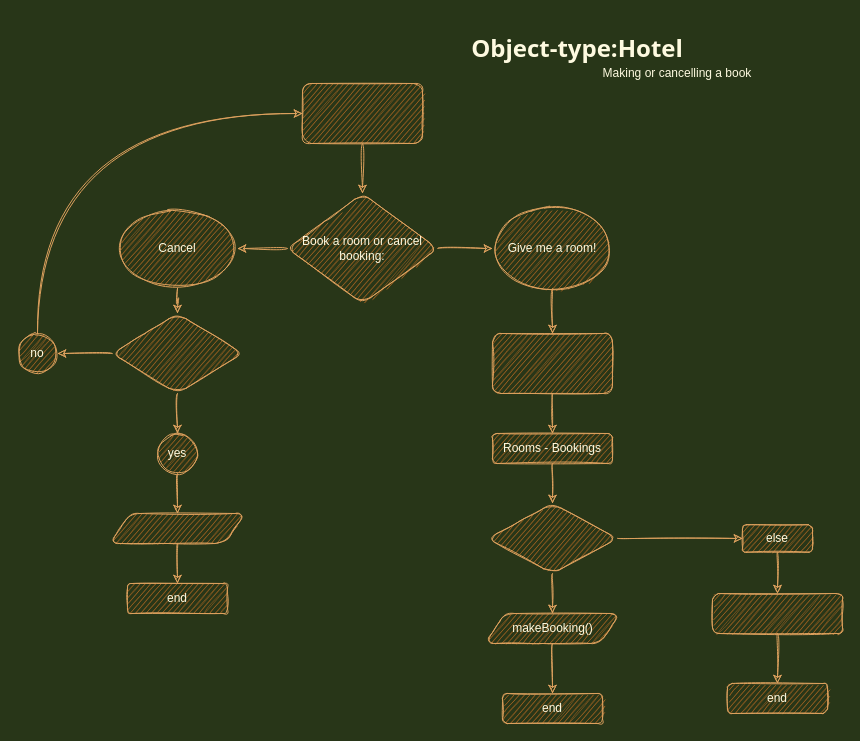
This 860x741 diagram has some shape labels left out. The shapes that lost their labels are listed below. From the top down, each one's centre as x and y in pixels, then its label:
At (362,113): "Start".
At (177,353): "Are you sure?".
At (552,363): "CheckAvaibility()".
At (177,528): "cancelBooking()".
At (552,538): "if Rooms > bookings".
At (777,613): "We don't have any more rooms available!".
